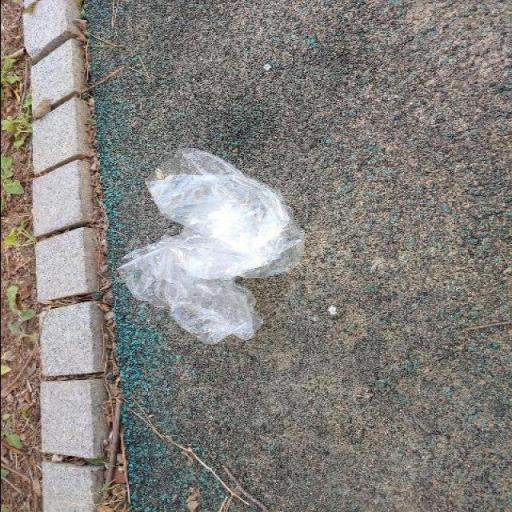plastic-bag: (115, 146, 308, 349)
